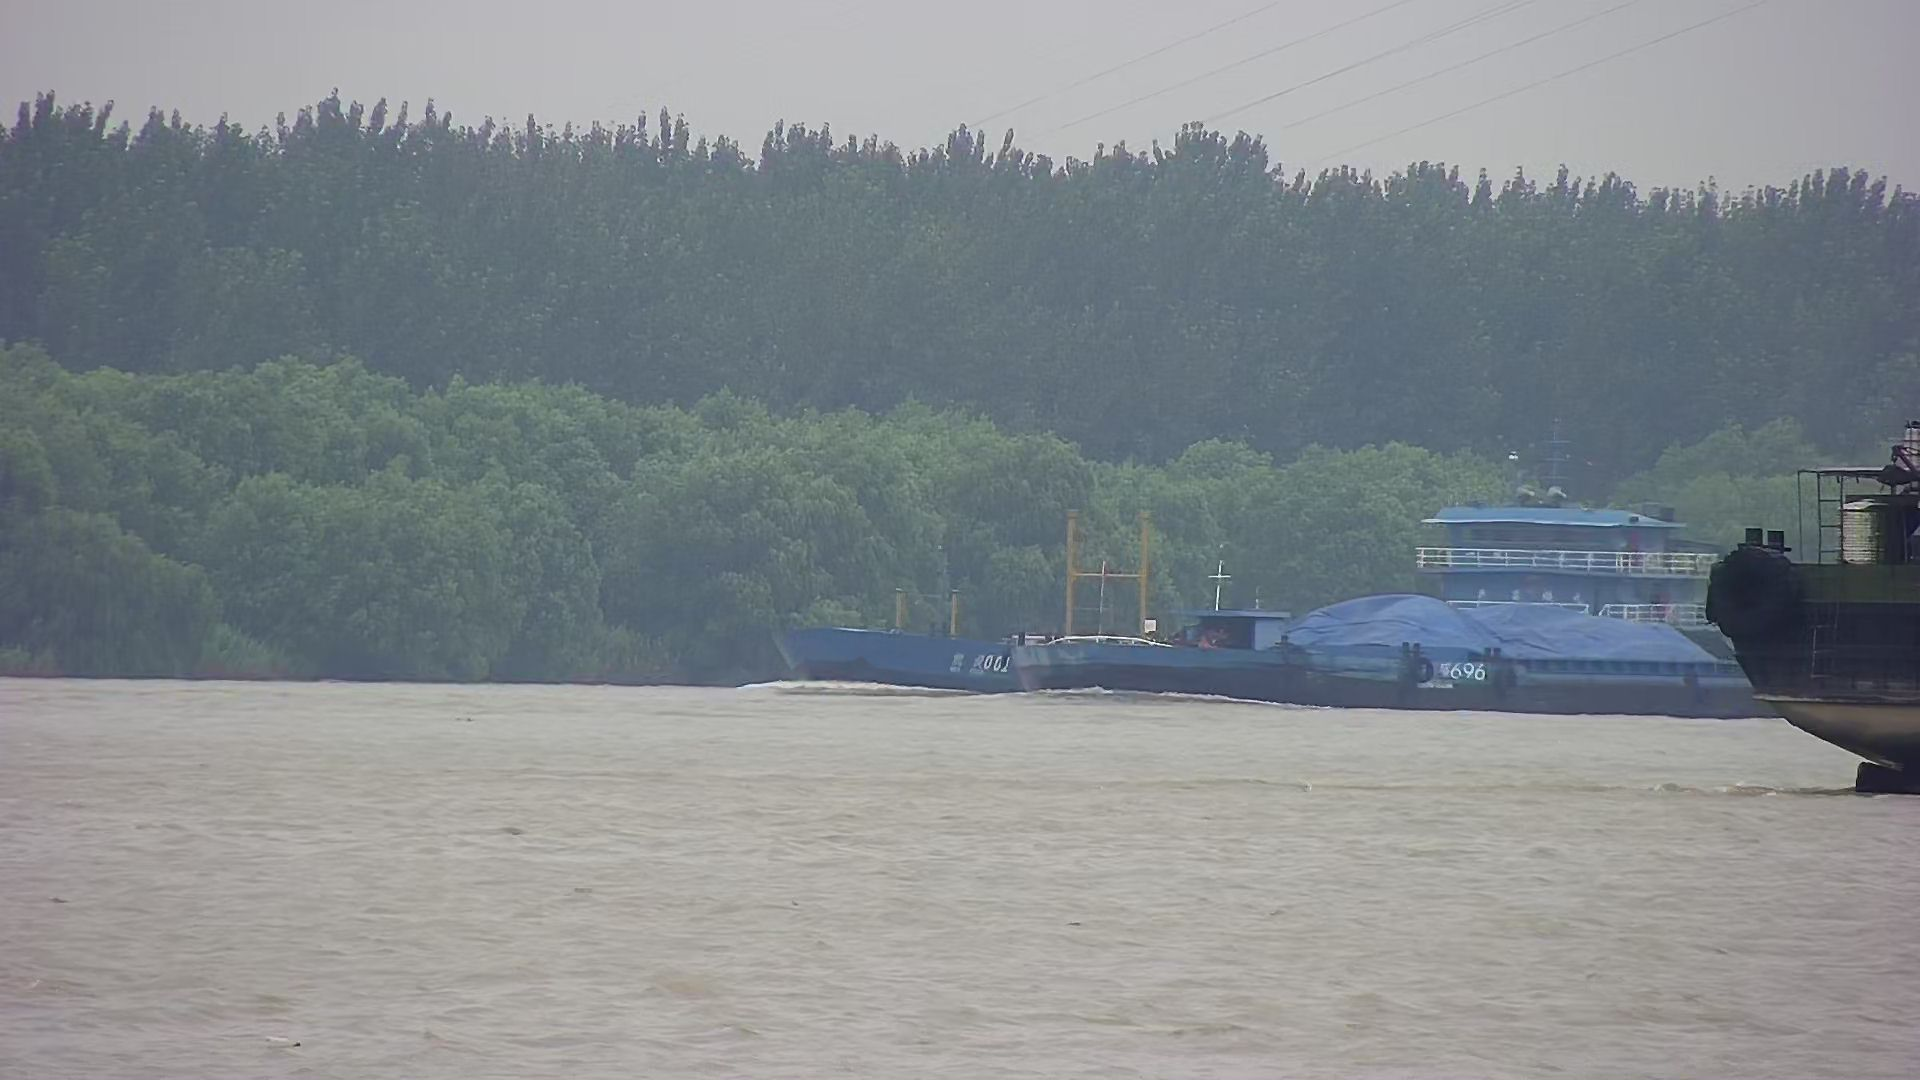ship: (766, 419, 1818, 724), (1009, 448, 1851, 727), (1692, 406, 1920, 814)
